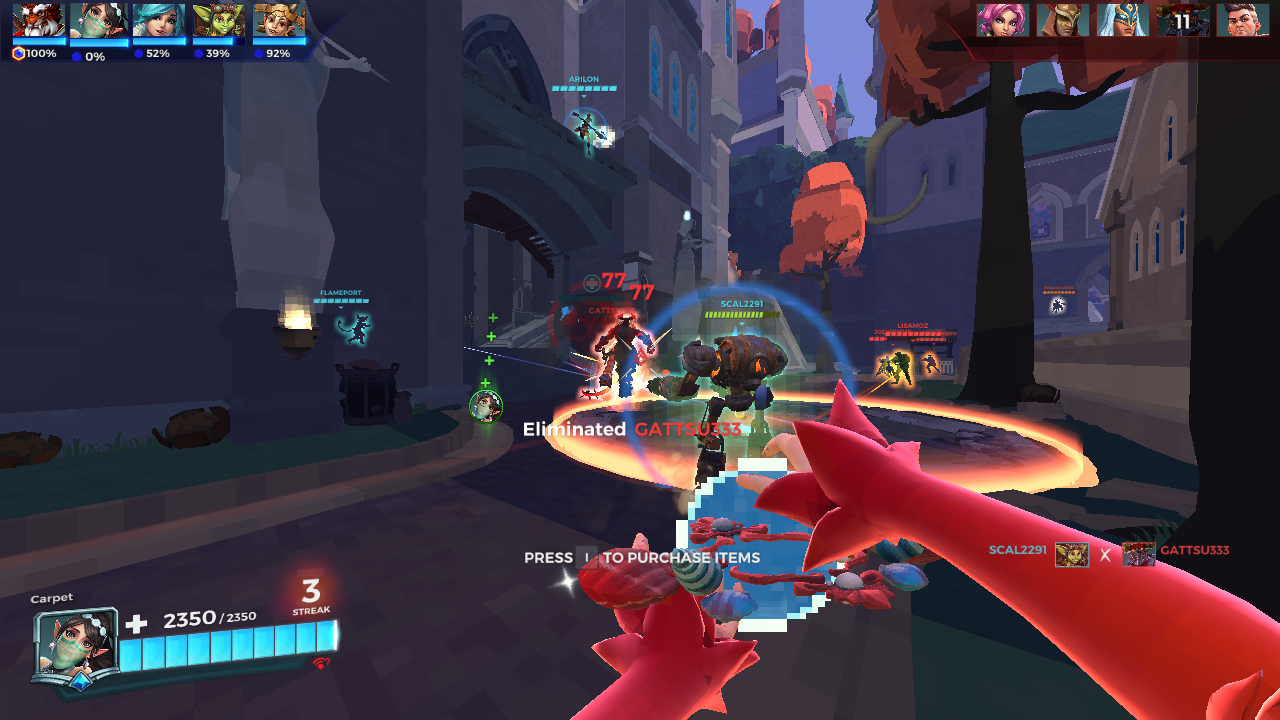model: (585, 303, 652, 409), (892, 348, 914, 386), (873, 353, 902, 379), (1050, 292, 1068, 318), (925, 349, 939, 373)
